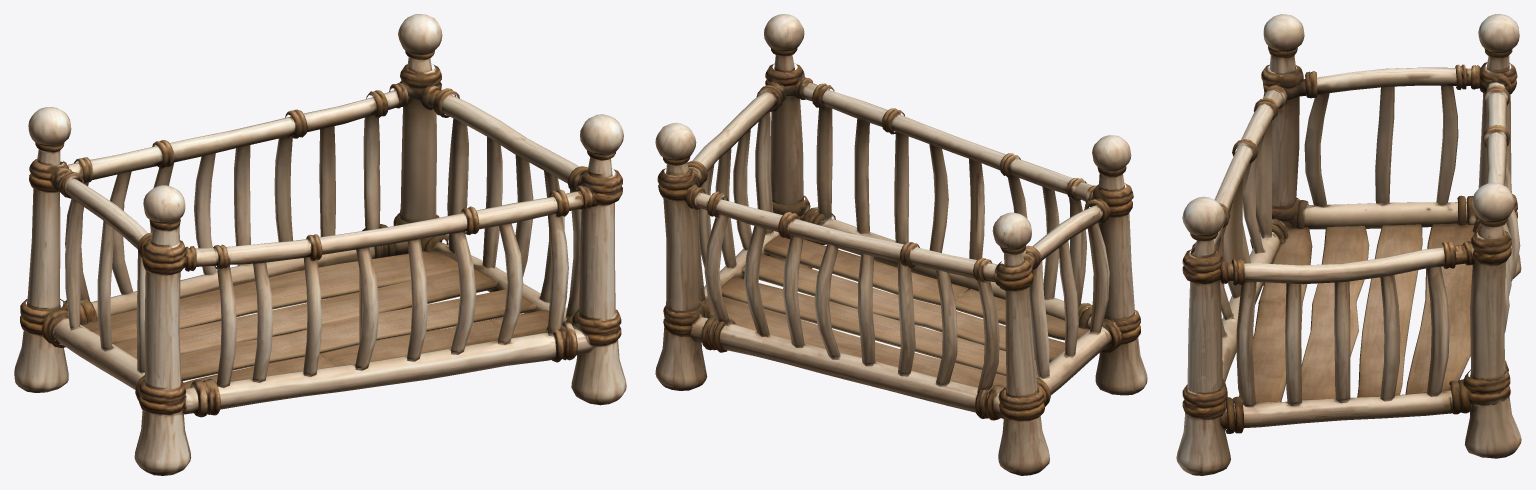
File: act1-a14-1-crib-frame.glb
3 views of the same model, side by side, from view 1: azimuth 30°, elevation 25°; view 2: azimuth 150°, elevation 25°; view 3: azimuth 270°, elevation 25° (orthographic). The views are drawn at different scales.
Parts seen in each view (by area): view 1: act1-a14-1-crib-frame; view 2: act1-a14-1-crib-frame; view 3: act1-a14-1-crib-frame.
Part boxes in pixels (x1=…): act1-a14-1-crib-frame: x1=14, y1=14, x2=626, y2=475; act1-a14-1-crib-frame: x1=655, y1=14, x2=1147, y2=475; act1-a14-1-crib-frame: x1=1176, y1=14, x2=1521, y2=475.
Size of the model in its own units: 6.3 by 3.7 by 4.27.
1 material, 1 textured.
